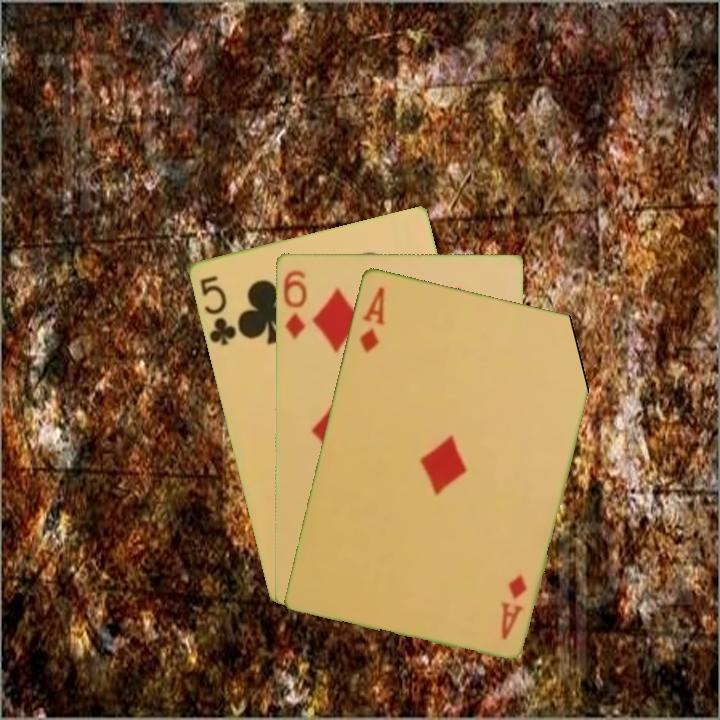5c: (196, 271, 239, 348)
6d: (279, 266, 309, 342)
Ad: (497, 570, 529, 643), (356, 283, 388, 355)
